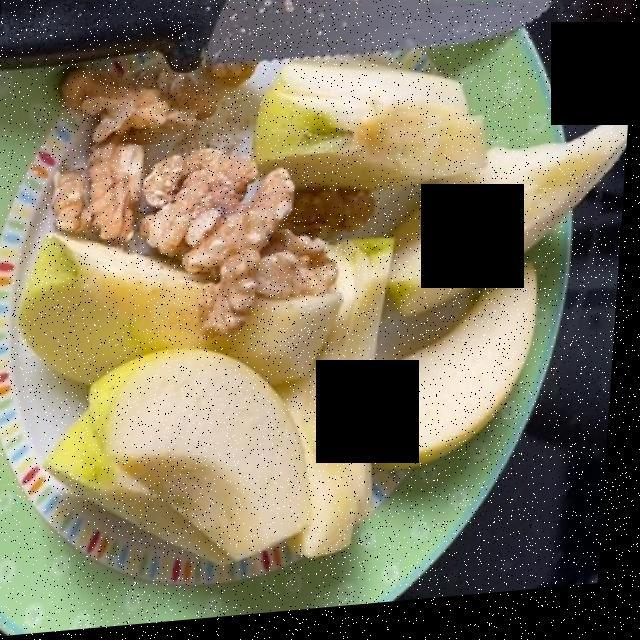apple: (21, 61, 603, 571)
walnut: (46, 47, 382, 331)
